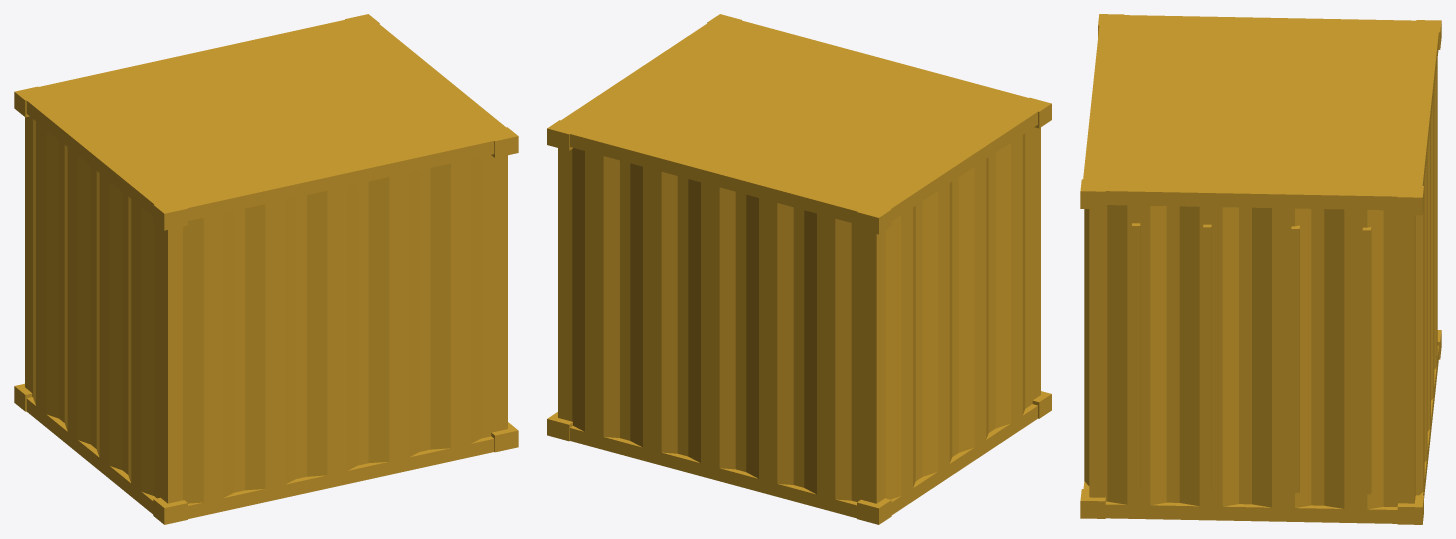
File: YellowContainer.fbx
The picture shows the model from 3 angles, left to right: view 1: azimuth 30°, elevation 25°; view 2: azimuth 150°, elevation 25°; view 3: azimuth 270°, elevation 25°; orthographic projection. The views are drawn at different scales.
Parts seen in each view (by area): view 1: Container_LP_AmberYellow; view 2: Container_LP_AmberYellow; view 3: Container_LP_AmberYellow.
Part boxes in pixels (x1=…): Container_LP_AmberYellow: x1=14, y1=14, x2=518, y2=524; Container_LP_AmberYellow: x1=547, y1=14, x2=1051, y2=524; Container_LP_AmberYellow: x1=1080, y1=14, x2=1441, y2=524.
Bounding box in the file's own units: 314 × 259 × 259.
